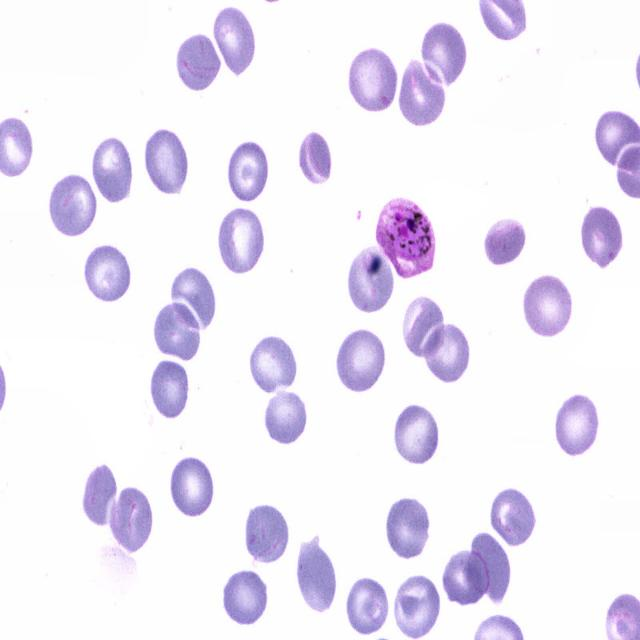red blood cell: (347, 243, 398, 316), (396, 58, 449, 128), (336, 326, 388, 396), (47, 171, 99, 238), (170, 265, 220, 334), (296, 536, 338, 618), (522, 273, 573, 340), (348, 47, 399, 114), (419, 20, 468, 89), (212, 5, 257, 80), (143, 128, 191, 198), (90, 134, 135, 208), (248, 333, 302, 394), (422, 322, 472, 386), (393, 575, 442, 640), (218, 209, 266, 275), (152, 300, 203, 362), (386, 494, 433, 561), (470, 531, 512, 605), (489, 486, 538, 548), (108, 486, 152, 555), (83, 245, 135, 303), (244, 502, 292, 564), (393, 404, 442, 464), (168, 457, 216, 518), (555, 392, 600, 457), (227, 139, 272, 204), (440, 548, 490, 606), (580, 203, 624, 268), (346, 575, 390, 639), (402, 293, 444, 359), (223, 568, 270, 626), (263, 389, 310, 446), (176, 33, 220, 91), (82, 456, 118, 526), (150, 360, 192, 418), (481, 216, 528, 266), (298, 130, 332, 186)
trophozoite: (376, 196, 436, 280)
